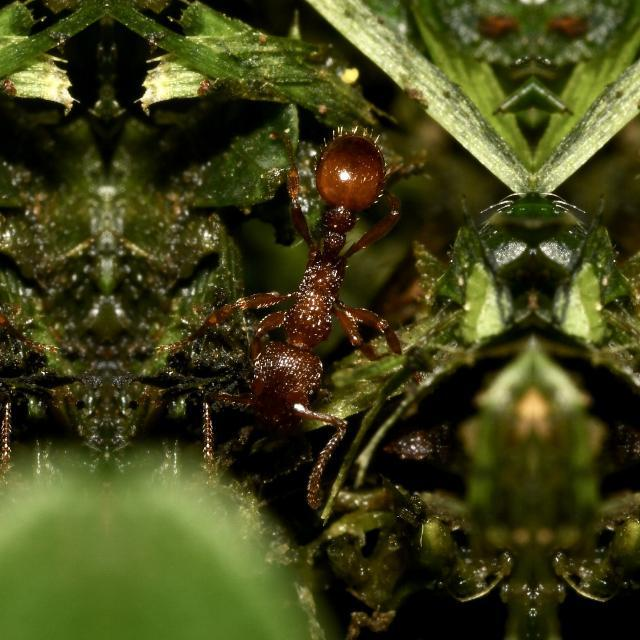Myrmica: (194, 54, 446, 522)
